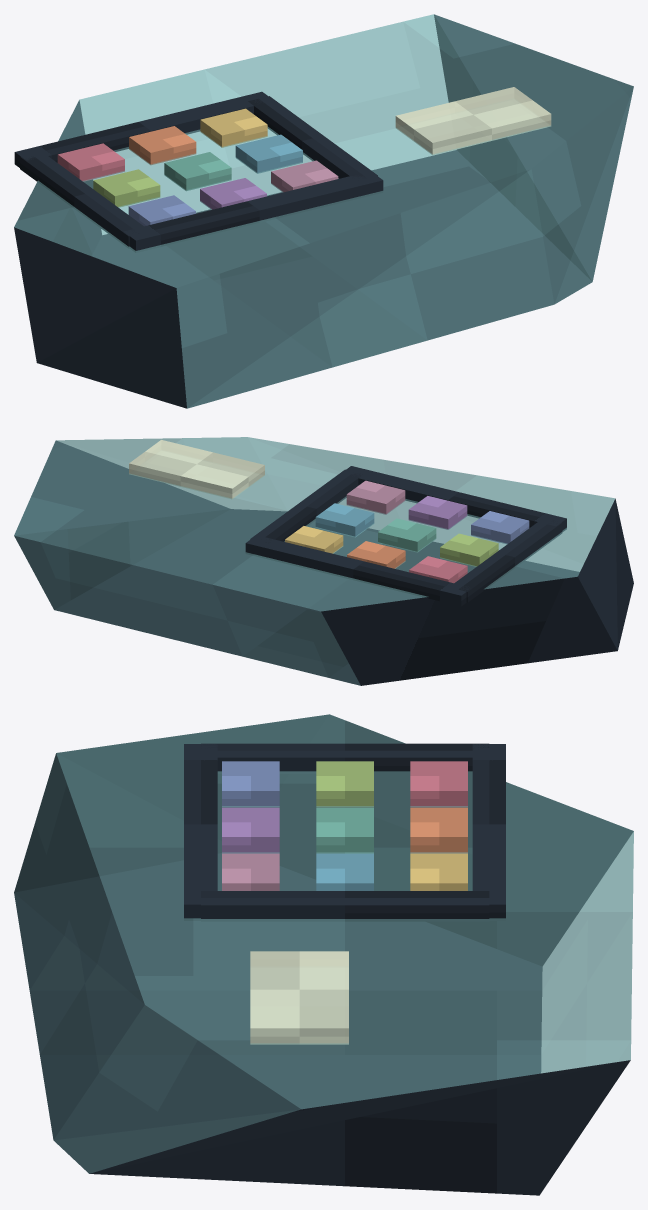
Rendered from yuanying_jiuse_ingot.obj.
3 renders of one model, top to bottom at view 1: azimuth 30°, elevation 25°; view 2: azimuth 150°, elevation 25°; view 3: azimuth 270°, elevation 25°, orthographic. The views are drawn at different scales.
Parts seen in each view (by area): view 1: ingot_body, glass_ingot_stamp, glass_ingot_frame_1, glass_ingot_frame_0, glass_ingot_frame_2, glass_ingot_frame_3, glass_ingot_color_1, glass_ingot_color_2, glass_ingot_color_4, glass_ingot_color_5, glass_ingot_color_3, glass_ingot_color_0 (+3 smaller); view 2: ingot_body, glass_ingot_stamp, glass_ingot_frame_0, glass_ingot_frame_1, glass_ingot_frame_2, glass_ingot_frame_3, glass_ingot_color_5, glass_ingot_color_8, glass_ingot_color_7, glass_ingot_color_4, glass_ingot_color_3, glass_ingot_color_6 (+3 smaller); view 3: ingot_body, glass_ingot_stamp, glass_ingot_frame_3, glass_ingot_frame_2, glass_ingot_frame_0, glass_ingot_frame_1, glass_ingot_color_1, glass_ingot_color_4, glass_ingot_color_7, glass_ingot_color_0, glass_ingot_color_3, glass_ingot_color_6 (+3 smaller).
Part boxes in pixels (<box>): ingot_body: <box>14,14,633,408</box>; glass_ingot_stamp: <box>395,87,551,154</box>; glass_ingot_frame_1: <box>123,174,383,252</box>; glass_ingot_frame_0: <box>14,91,274,167</box>; glass_ingot_frame_2: <box>20,155,149,248</box>; glass_ingot_frame_3: <box>248,96,377,178</box>; glass_ingot_color_1: <box>129,126,196,164</box>; glass_ingot_color_2: <box>200,108,267,147</box>; glass_ingot_color_4: <box>164,152,231,190</box>; glass_ingot_color_5: <box>235,134,302,173</box>; glass_ingot_color_3: <box>93,169,160,207</box>; glass_ingot_color_0: <box>57,143,124,181</box>; ingot_body: <box>14,437,633,685</box>; glass_ingot_stamp: <box>129,440,264,499</box>; glass_ingot_frame_0: <box>245,535,469,606</box>; glass_ingot_frame_1: <box>342,466,566,532</box>; glass_ingot_frame_2: <box>449,519,562,602</box>; glass_ingot_frame_3: <box>250,469,362,542</box>; glass_ingot_color_5: <box>315,503,374,537</box>; glass_ingot_color_8: <box>346,480,405,514</box>; glass_ingot_color_7: <box>408,496,467,529</box>; glass_ingot_color_4: <box>378,518,436,552</box>; glass_ingot_color_3: <box>440,533,498,566</box>; glass_ingot_color_6: <box>471,511,529,544</box>; ingot_body: <box>14,714,633,1195</box>; glass_ingot_stamp: <box>250,951,348,1044</box>; glass_ingot_frame_3: <box>201,891,489,921</box>; glass_ingot_frame_2: <box>201,743,488,773</box>; glass_ingot_frame_0: <box>472,744,505,920</box>; glass_ingot_frame_1: <box>184,744,217,920</box>; glass_ingot_color_1: <box>410,807,467,853</box>; glass_ingot_color_4: <box>316,807,373,853</box>; glass_ingot_color_7: <box>222,807,279,853</box>; glass_ingot_color_0: <box>410,761,467,807</box>; glass_ingot_color_3: <box>316,761,373,807</box>; glass_ingot_color_6: <box>222,761,279,807</box>.
Size of the model in its own units: 0.3922 by 0.0719 by 0.2552.
